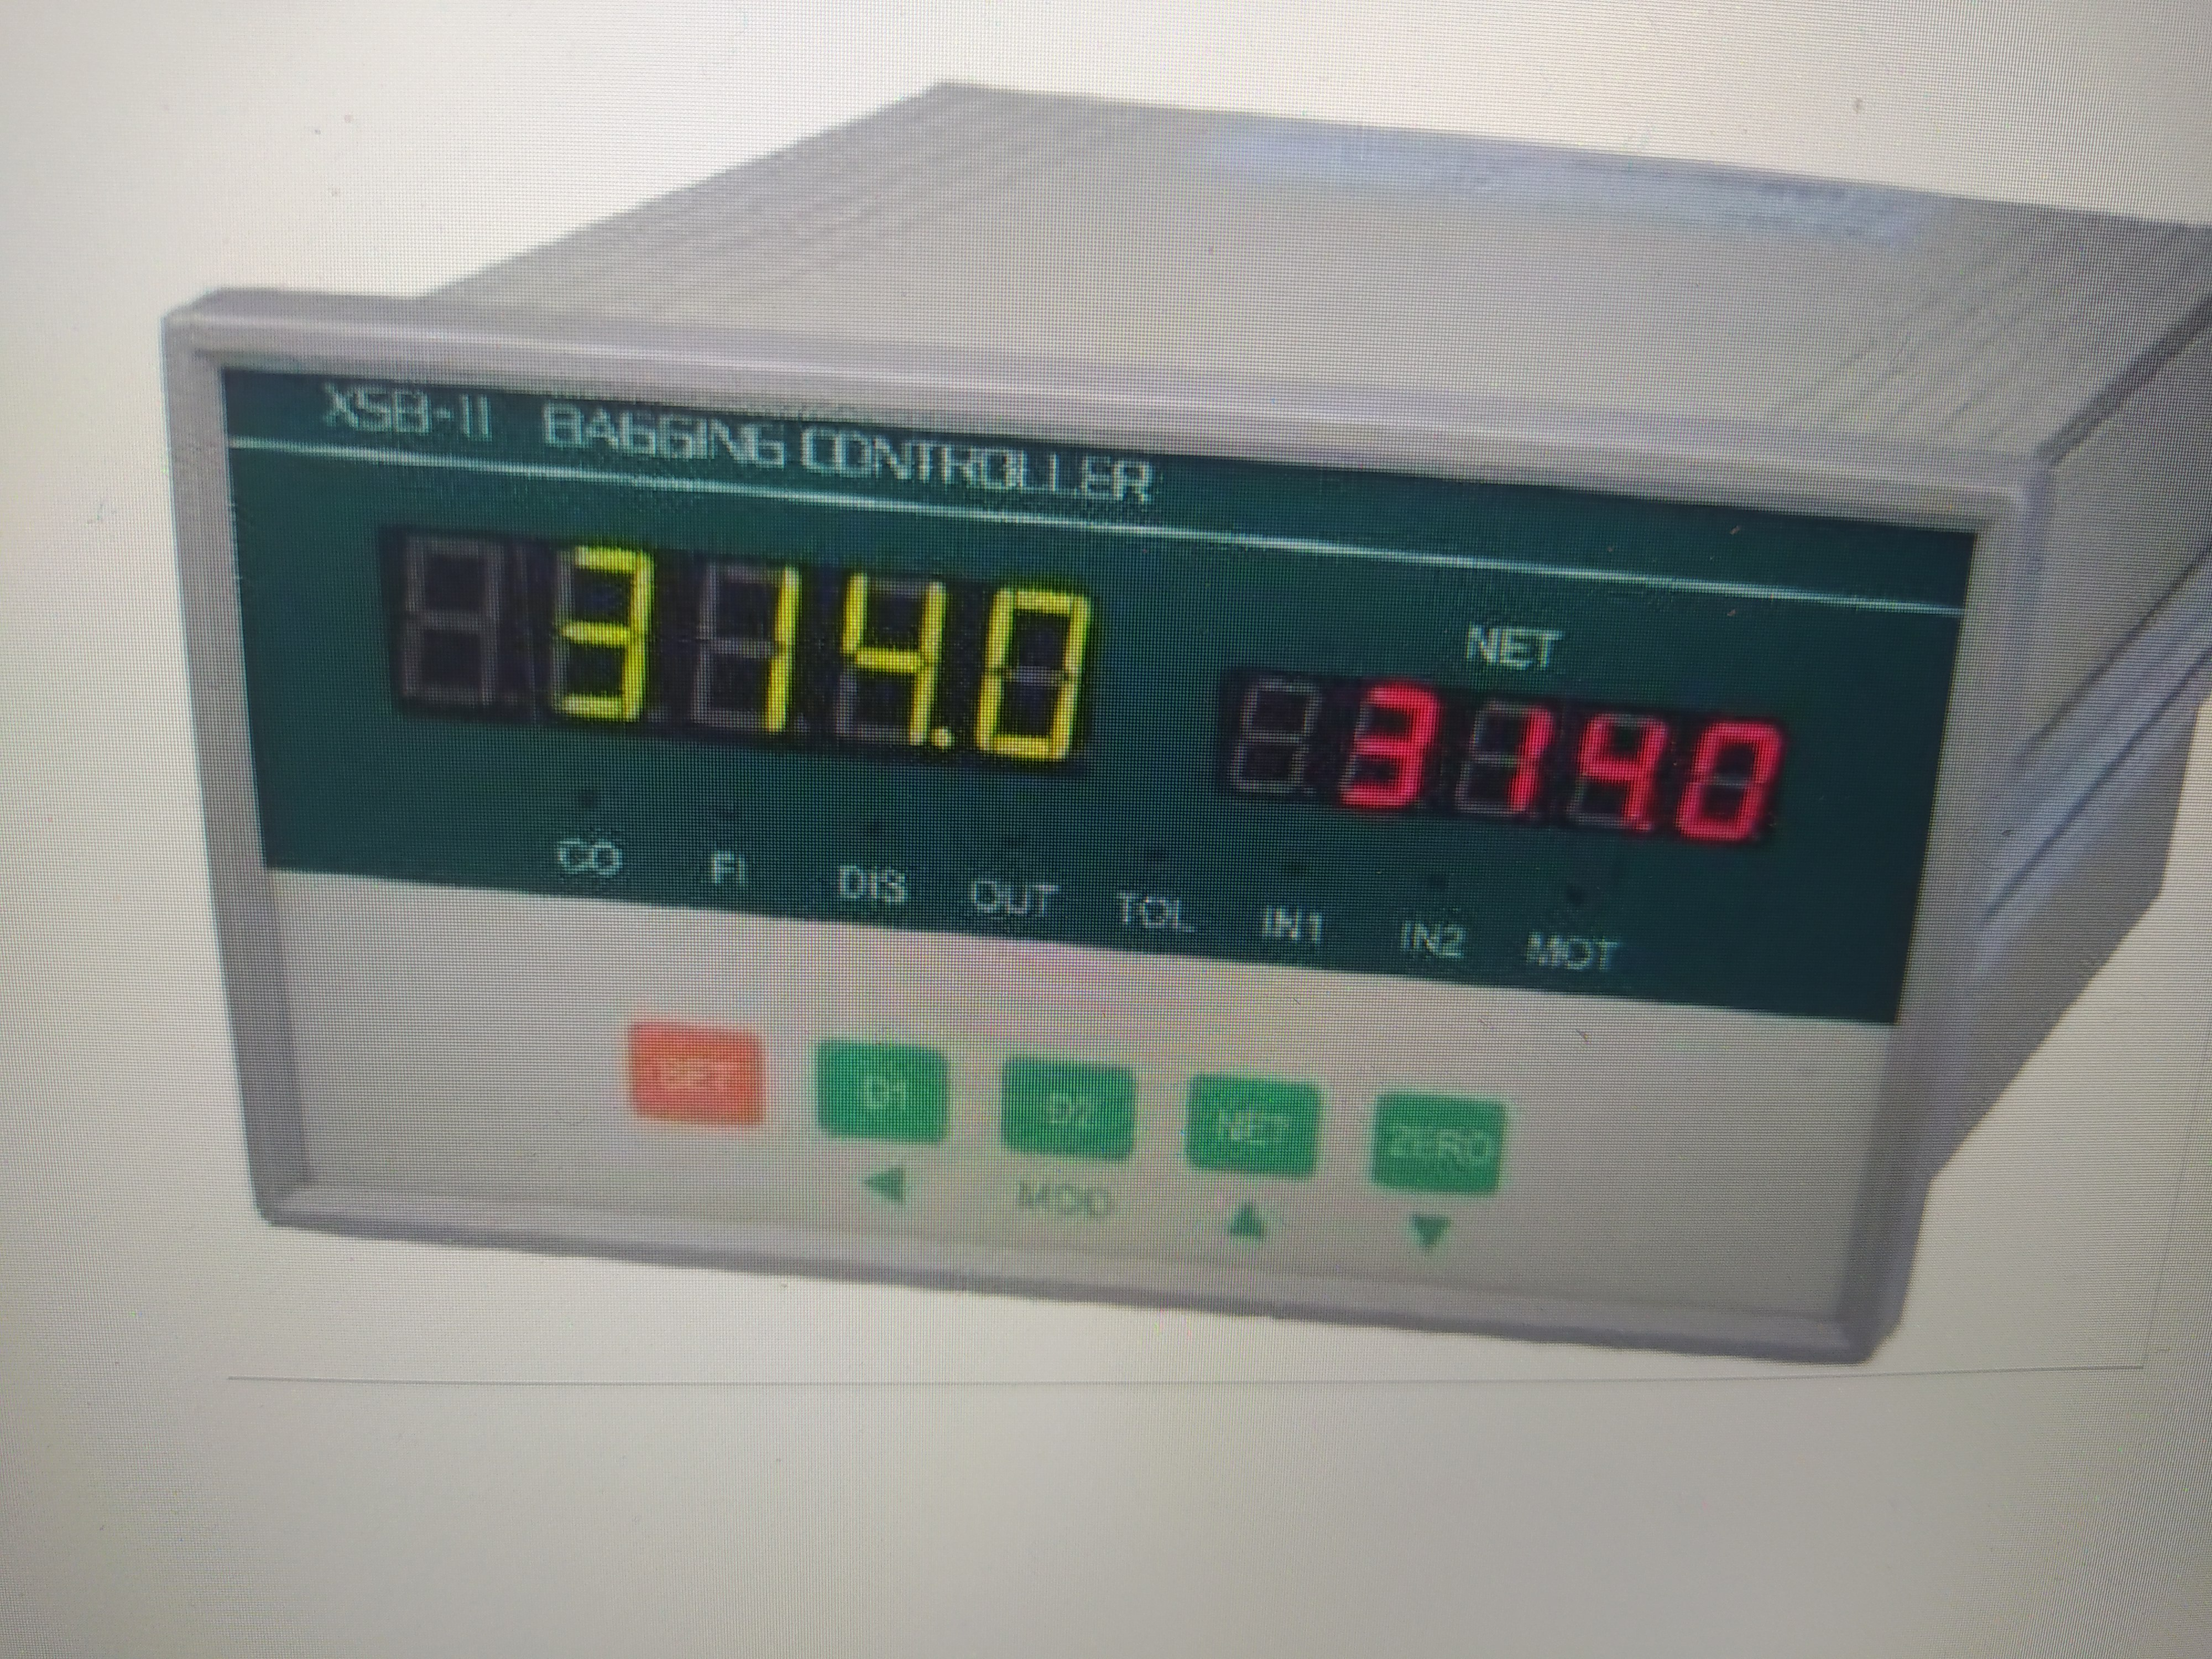.: (934, 582, 963, 769)
0: (958, 572, 1092, 777), (1679, 709, 1787, 854)
1: (712, 561, 803, 748), (1467, 695, 1554, 833)
3: (563, 540, 669, 732), (1348, 673, 1439, 826)
4: (829, 565, 939, 762), (1587, 706, 1646, 831)
